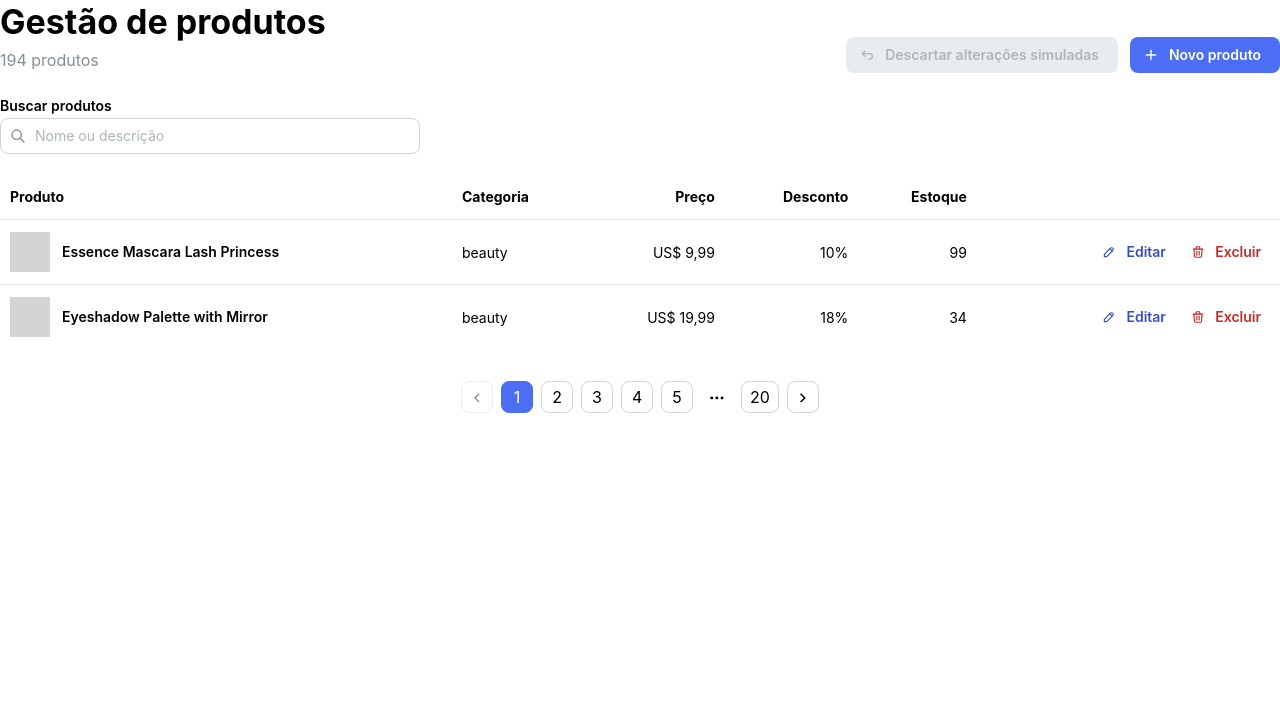
AdminProductsPage › na falha do DELETE, avisa no diálogo e mantém o item
The width and height of the screenshot is (1280, 720).
Click the button with aria-label "Excluir Essence Mascara Lash Princess": (1227, 252) [1185,240,1270,266]
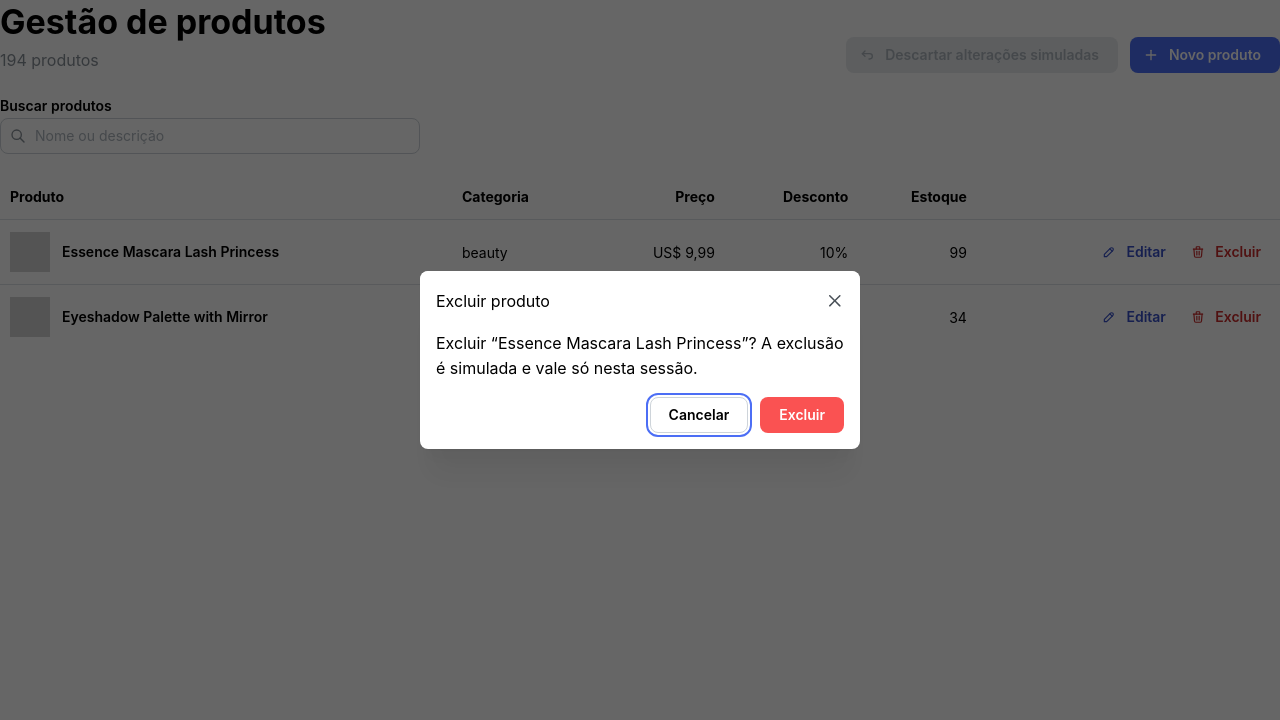
Click the button "Excluir": (802, 415) [760,397,844,433]
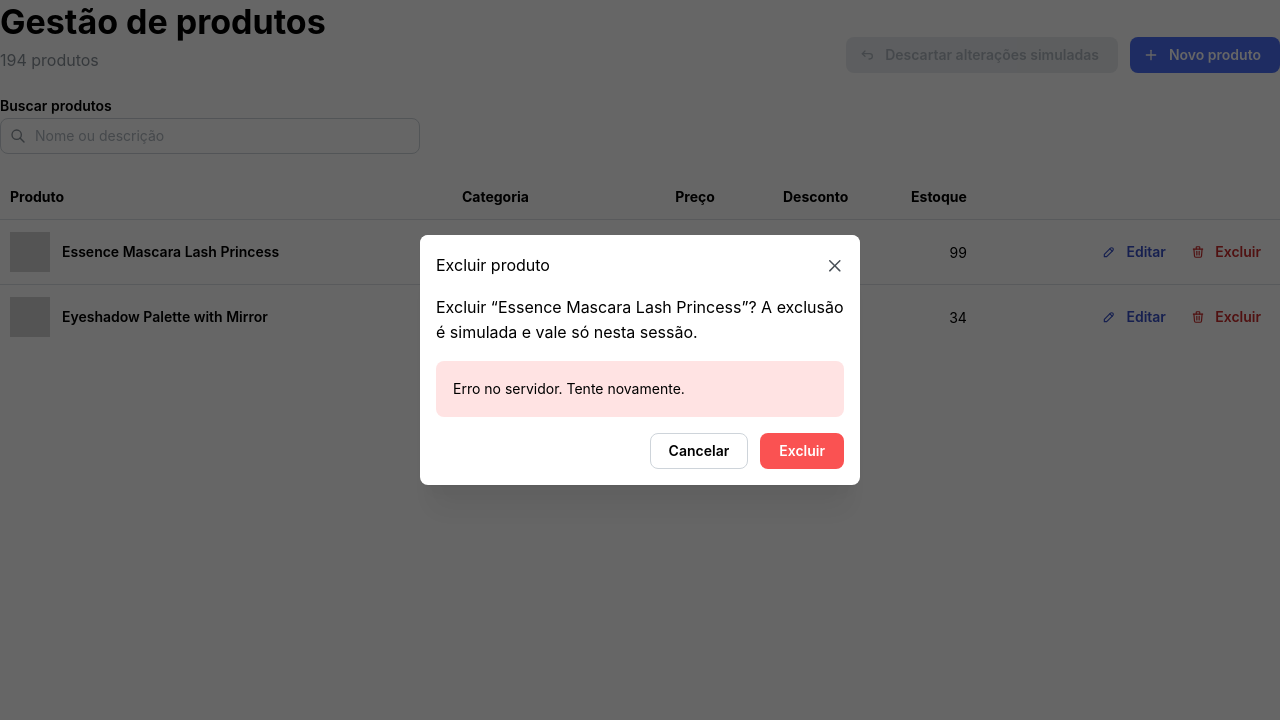
Now the message reads "Erro no servidor. Tente novamente.", box [453,380,685,397]
